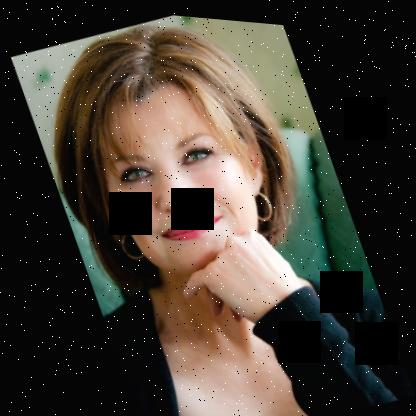Female: (77, 52, 294, 291)
